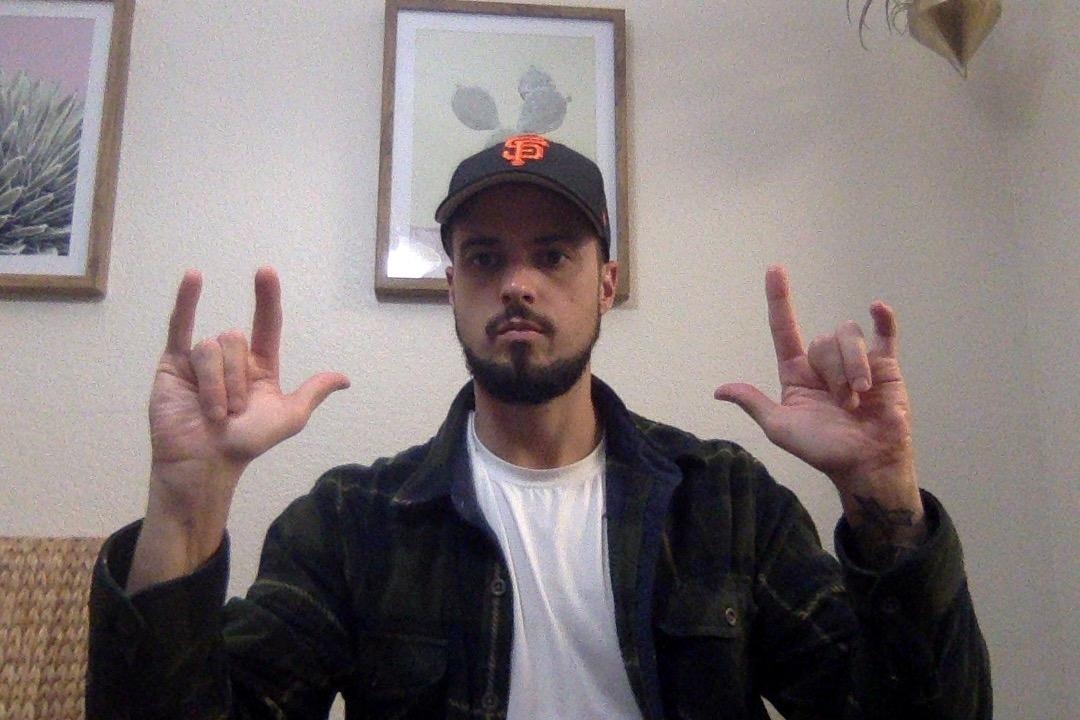Love-You: (692, 262, 910, 495), (140, 265, 351, 492)
